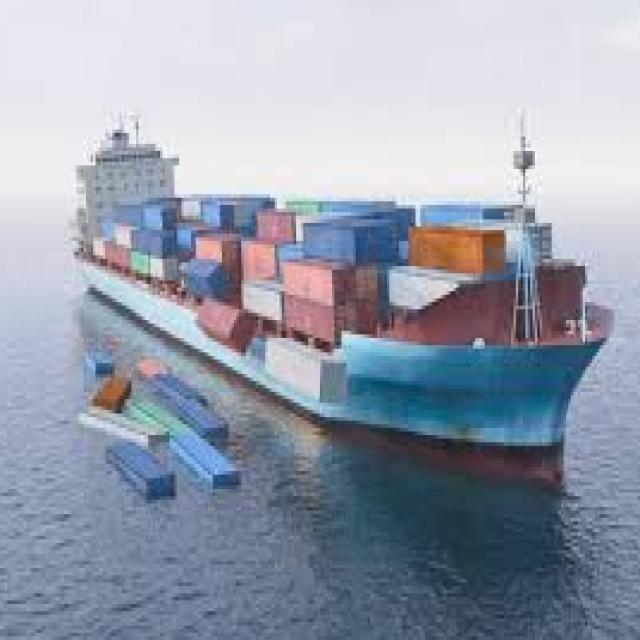cargoship: (72, 106, 607, 473)
